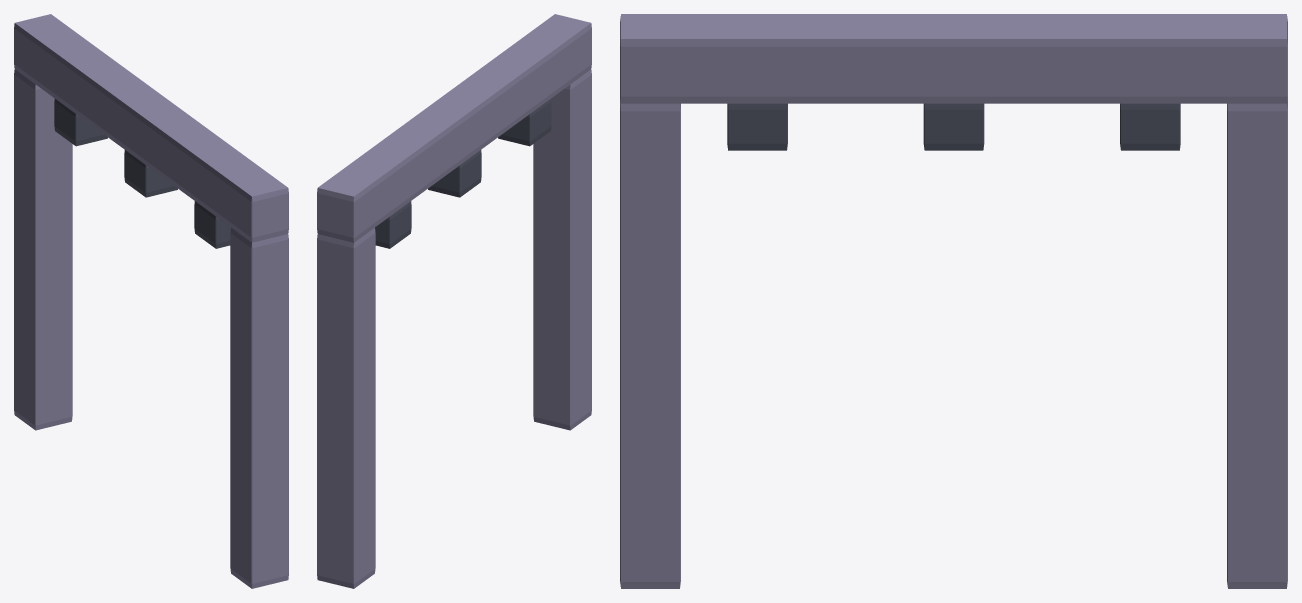
File: kalite.glb
3 renders of one model, left to right at view 1: azimuth 30°, elevation 25°; view 2: azimuth 150°, elevation 25°; view 3: azimuth 270°, elevation 25°, orthographic. The views are drawn at different scales.
Visible parts, largest first — view 1: KaliteKapisi; view 2: KaliteKapisi; view 3: KaliteKapisi.
Boxes of the visible parts, <box> form: KaliteKapisi: <box>14,14,288,588</box>; KaliteKapisi: <box>317,14,591,588</box>; KaliteKapisi: <box>620,14,1287,588</box>.
Bounding box in the file's own units: 0.34 × 3.4 × 3.74.
